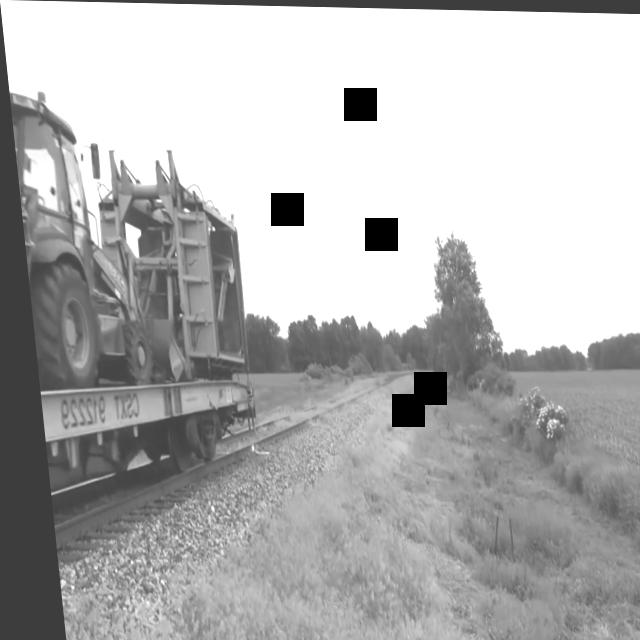cargo: (4, 52, 251, 380)
flatcar: (30, 368, 263, 545)
